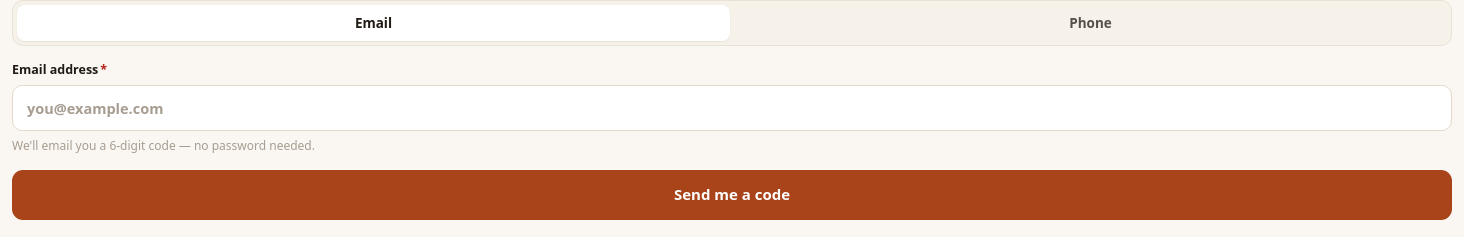
Scenario: IdentifierForm › switches to the Phone tab, revealing the country picker
Click the tab "Phone" at (1090, 23), box [734,5,1447,41]
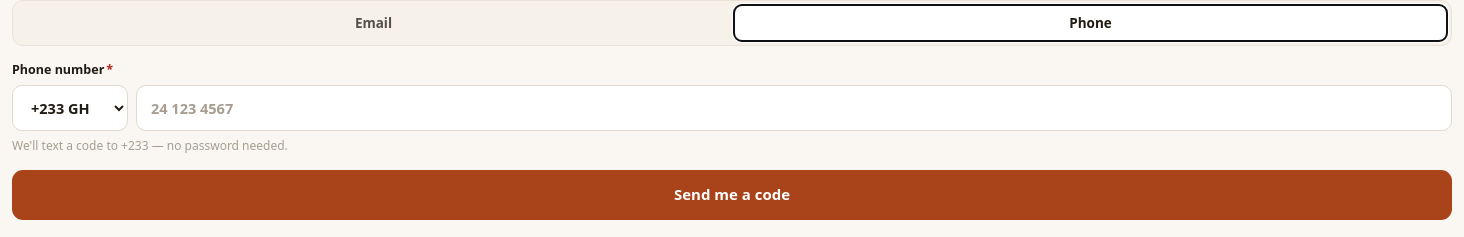
Expected: the field labelled "Phone number*" is shown, [136,85,1452,131]
Now the dropdown named "Country" shows "+233 GH", box [12,85,128,131]
